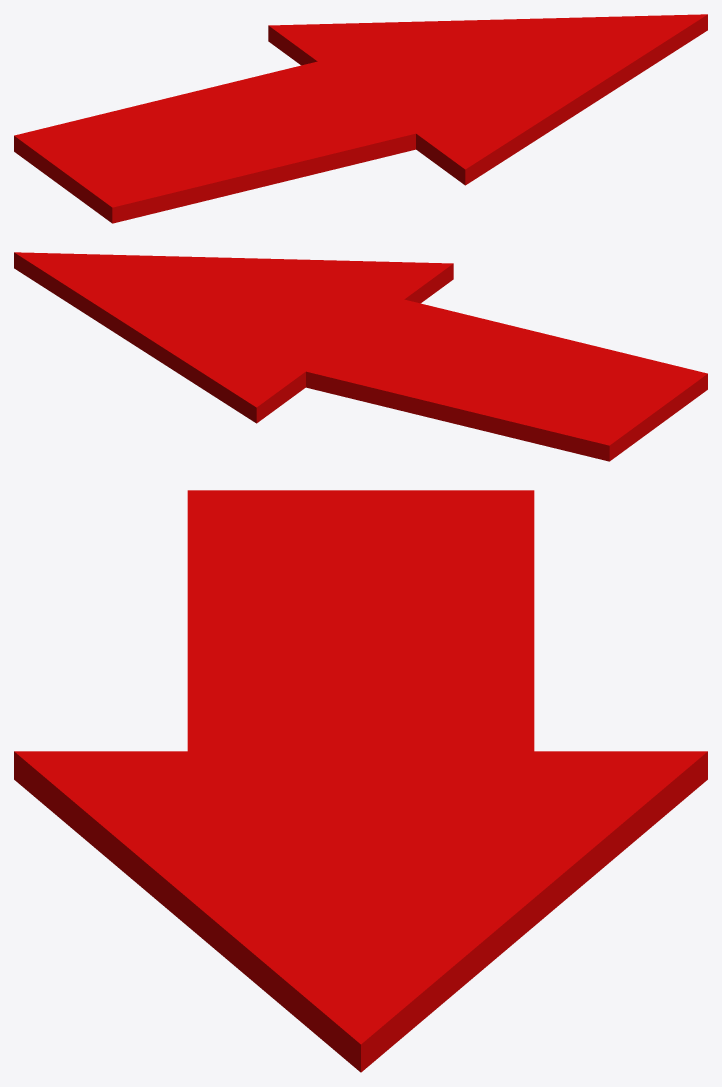
The model's file is Mui Ten.fbx.
3 views of the same model, one above another, from view 1: azimuth 30°, elevation 25°; view 2: azimuth 150°, elevation 25°; view 3: azimuth 270°, elevation 25° (orthographic). The views are drawn at different scales.
Visible parts, largest first — view 1: polySurface5; view 2: polySurface5; view 3: polySurface5.
Boxes of the visible parts, x1,y1,x2,y2 form: polySurface5: (14, 14, 707, 223); polySurface5: (14, 252, 707, 461); polySurface5: (14, 490, 707, 1072).
Bounding box in the file's own units: 1.89 × 0.0449 × 1.
